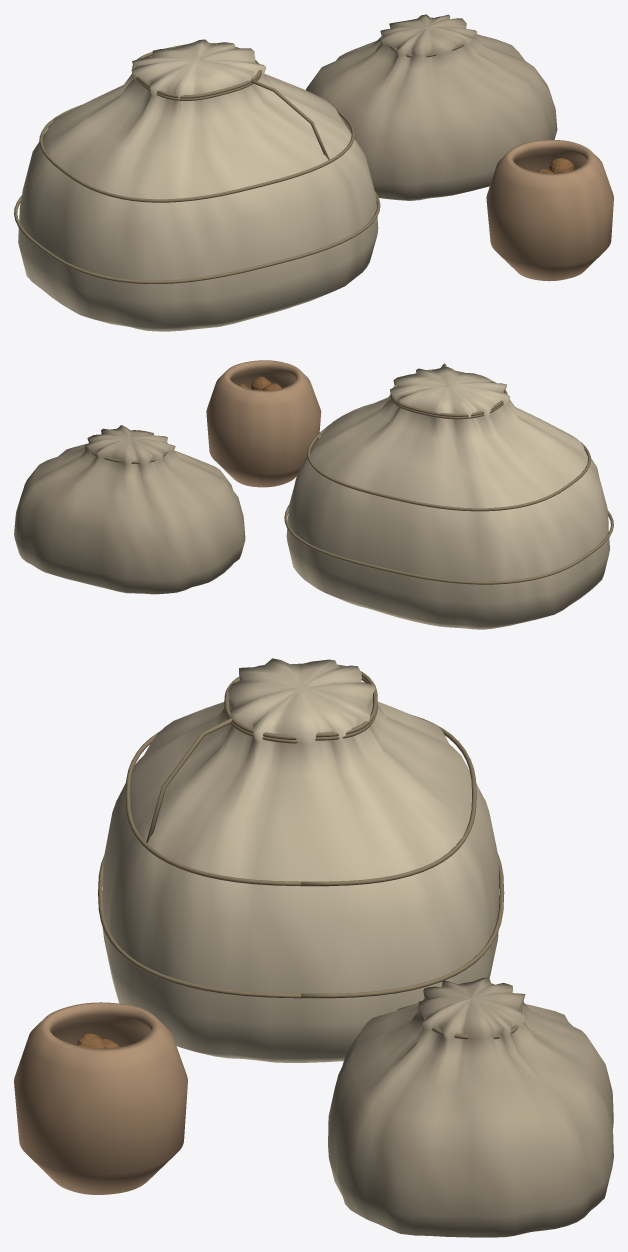
The model's file is joseph-cargo.glb.
3 views of the same model, one above another, from view 1: azimuth 30°, elevation 25°; view 2: azimuth 150°, elevation 25°; view 3: azimuth 270°, elevation 25° (orthographic). The views are drawn at different scales.
Visible parts, largest first — view 1: joseph-cargo-joseph-pale-wrapping-fibre, joseph-cargo-joseph-undyed-woven-fibre, joseph-cargo-joseph-comparison-earthenware.001, joseph-cargo-joseph-comparison-fibre-cord; view 2: joseph-cargo-joseph-pale-wrapping-fibre, joseph-cargo-joseph-undyed-woven-fibre, joseph-cargo-joseph-comparison-earthenware.001, joseph-cargo-joseph-comparison-fibre-cord; view 3: joseph-cargo-joseph-pale-wrapping-fibre, joseph-cargo-joseph-undyed-woven-fibre, joseph-cargo-joseph-comparison-earthenware.001, joseph-cargo-joseph-comparison-fibre-cord.
Boxes of the visible parts, x1,y1,x2,y2 form: joseph-cargo-joseph-pale-wrapping-fibre: (18,39,378,331); joseph-cargo-joseph-undyed-woven-fibre: (306,14,557,200); joseph-cargo-joseph-comparison-earthenware.001: (486,140,613,281); joseph-cargo-joseph-comparison-fibre-cord: (14,43,380,283); joseph-cargo-joseph-pale-wrapping-fibre: (286,367,609,629); joseph-cargo-joseph-undyed-woven-fibre: (14,425,245,594); joseph-cargo-joseph-comparison-earthenware.001: (206,360,321,487); joseph-cargo-joseph-comparison-fibre-cord: (284,363,613,584); joseph-cargo-joseph-pale-wrapping-fibre: (102,658,499,1062); joseph-cargo-joseph-undyed-woven-fibre: (328,977,613,1237); joseph-cargo-joseph-comparison-earthenware.001: (14,1002,187,1194); joseph-cargo-joseph-comparison-fibre-cord: (98,663,504,998).
Bounding box in the file's own units: 1.18 × 0.45 × 0.8071.
